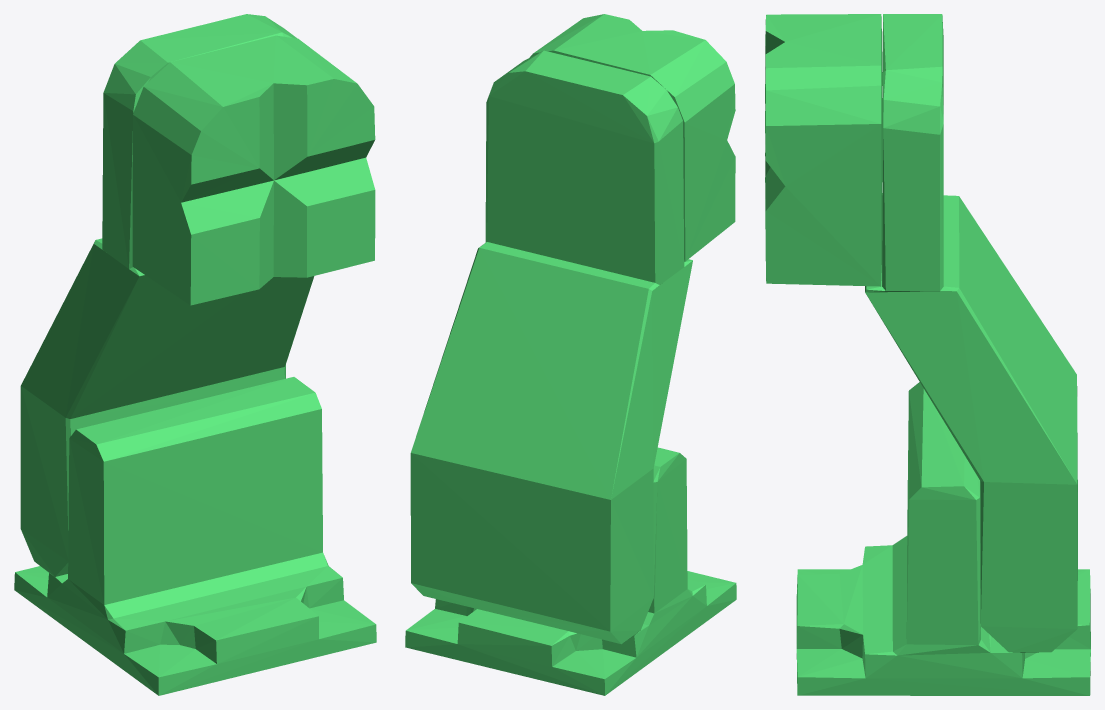
Rendered from finger.dae.
The picture shows the model from 3 angles, left to right: view 1: azimuth 30°, elevation 25°; view 2: azimuth 150°, elevation 25°; view 3: azimuth 270°, elevation 25°; orthographic projection. The views are drawn at different scales.
Parts seen in each view (by area): view 1: node1, node0; view 2: node1, node0; view 3: node1, node0.
Boxes of the visible parts, x1,y1,x2,y2 form: node1: (14, 14, 376, 695); node0: (132, 35, 375, 305); node1: (405, 50, 736, 695); node0: (529, 14, 735, 261); node1: (796, 14, 1090, 695); node0: (765, 14, 882, 286).
Bounding box in the file's own units: 0.021 × 0.0264 × 0.0538.
